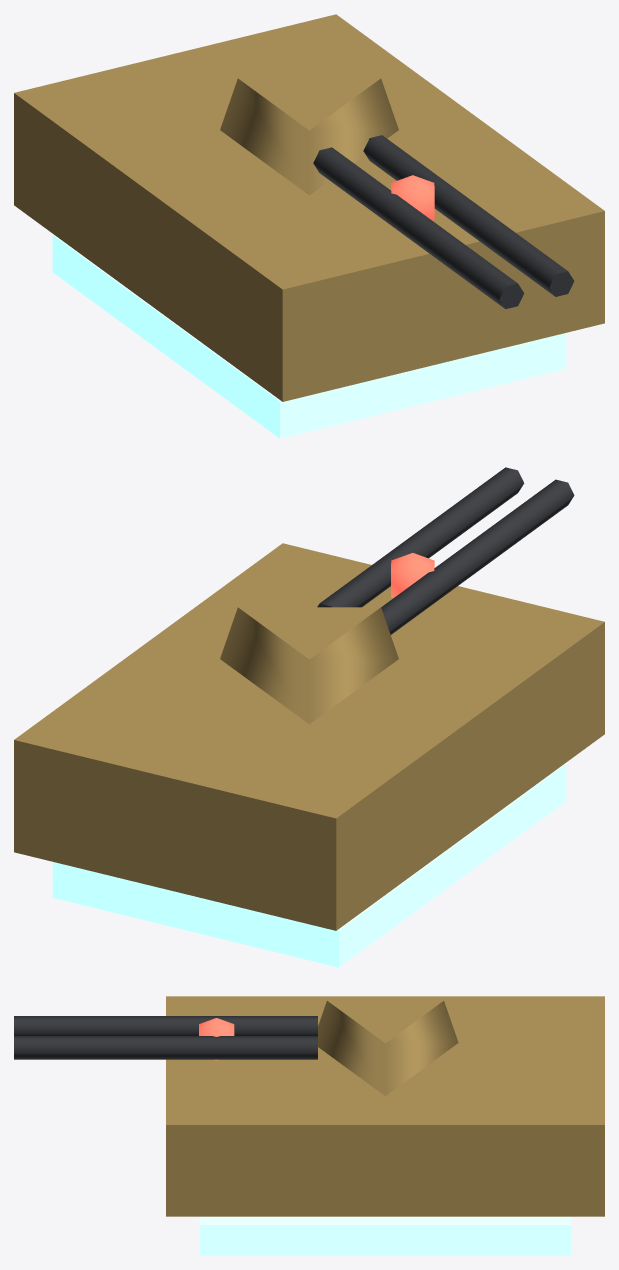
File: unit_mil_ground_drone_a10_lod2.glb
3 views of the same model, one above another, from view 1: azimuth 30°, elevation 25°; view 2: azimuth 150°, elevation 25°; view 3: azimuth 270°, elevation 25° (orthographic). The views are drawn at different scales.
Parts seen in each view (by area): view 1: body, turret; view 2: body, turret; view 3: body, turret.
Boxes of the visible parts, x1,y1,x2,y2 form: body: (14,14,604,438); turret: (220,78,574,309); body: (14,543,604,967); turret: (220,467,574,724); body: (166,996,604,1255); turret: (14,1000,458,1095).
Bounding box in the file's own units: 0.9 × 0.6 × 1.75.
